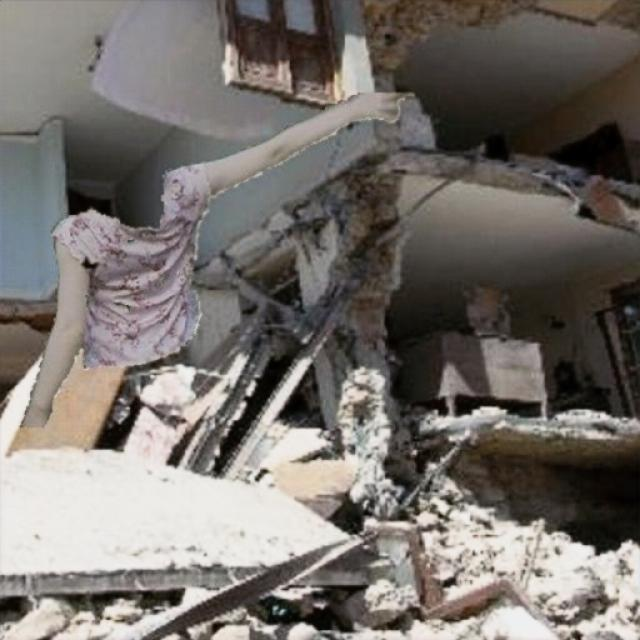Person in Rubble: (20, 92, 415, 426)
